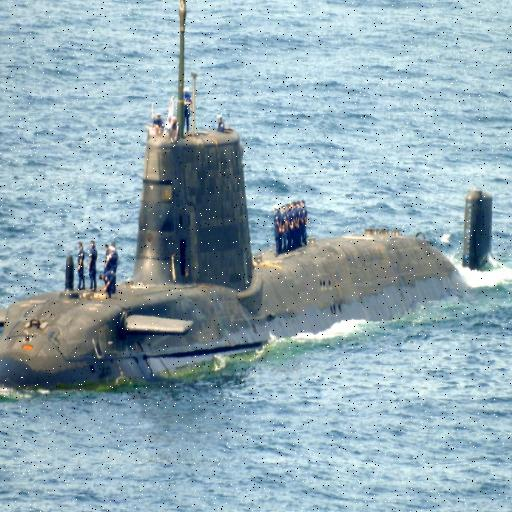submarine: (1, 1, 512, 394)
